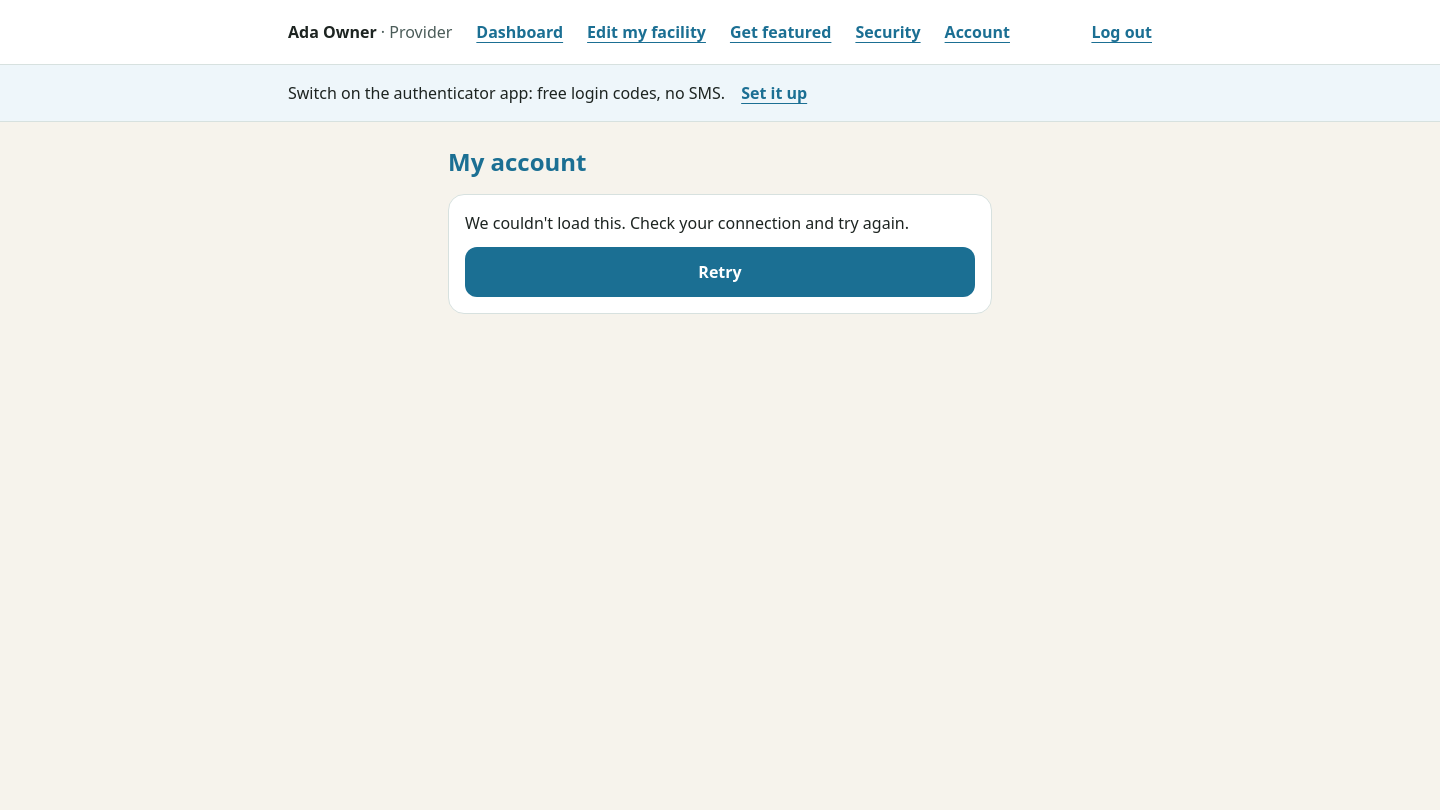
Test: your details › shows the error with Retry when the details cannot be loaded
Expected: the text "We couldn't load this. Check your connection and try again." is shown, [465,211,975,235]
Step 1. Click the button "Retry" → (720,272), box [465,247,975,297]
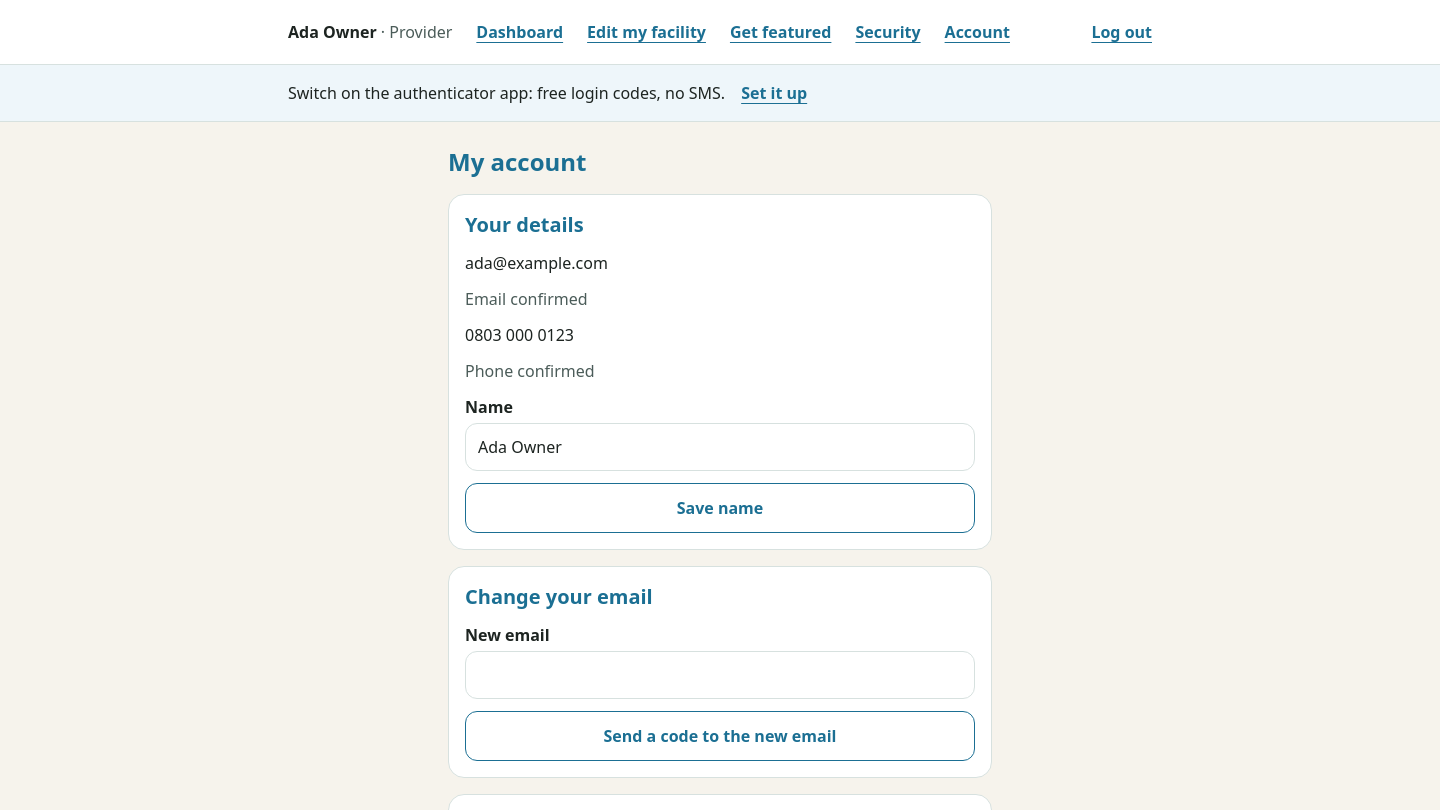
Expected: the text "ada@example.com" is shown, [465,252,608,274]
